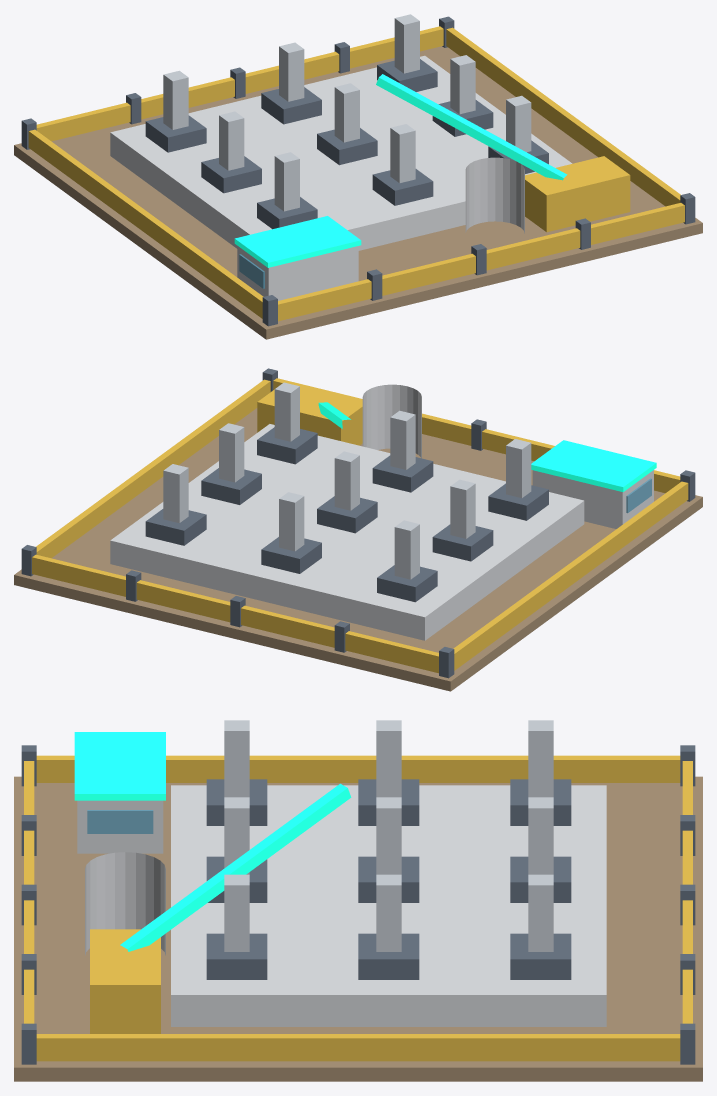
Rendered from stage_3_foundations.master.glb.
The picture shows the model from 3 angles, top to bottom: view 1: azimuth 30°, elevation 25°; view 2: azimuth 150°, elevation 25°; view 3: azimuth 270°, elevation 25°; orthographic projection. The views are drawn at different scales.
Visible parts, largest first — view 1: stage_3_foundations_master; view 2: stage_3_foundations_master; view 3: stage_3_foundations_master.
Boxes of the visible parts, box(x1,y1,x2,y2) form: stage_3_foundations_master: box(14, 14, 702, 339); stage_3_foundations_master: box(14, 368, 702, 691); stage_3_foundations_master: box(14, 720, 702, 1081).
Size of the model in its own units: 2.72 by 0.7035 by 2.72.
